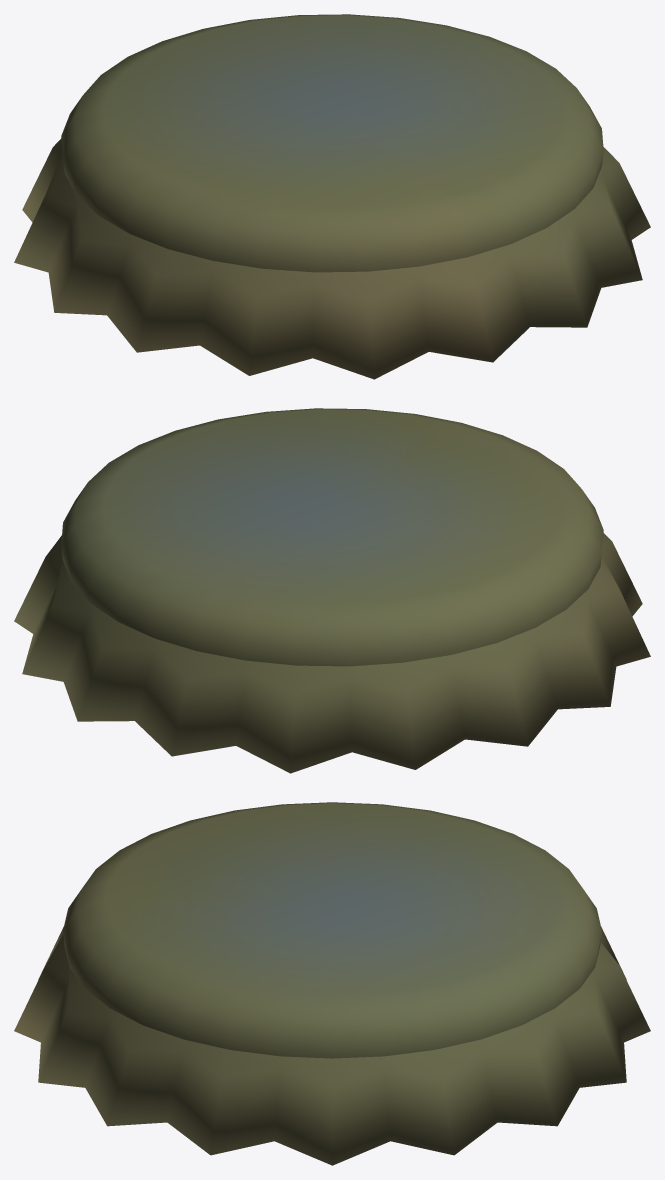
Rendered from VFX_BottleCap.fbx.
The picture shows the model from 3 angles, top to bottom: view 1: azimuth 30°, elevation 25°; view 2: azimuth 150°, elevation 25°; view 3: azimuth 270°, elevation 25°; orthographic projection.
Visible parts, largest first — view 1: Beer Bottle Cap; view 2: Beer Bottle Cap; view 3: Beer Bottle Cap.
Boxes of the visible parts, left/top/right/bottom form: Beer Bottle Cap: left=14, top=14, right=650, bottom=379; Beer Bottle Cap: left=14, top=408, right=650, bottom=773; Beer Bottle Cap: left=14, top=802, right=650, bottom=1165.
Size of the model in its own units: 0.0347 by 0.0079 by 0.0347.
